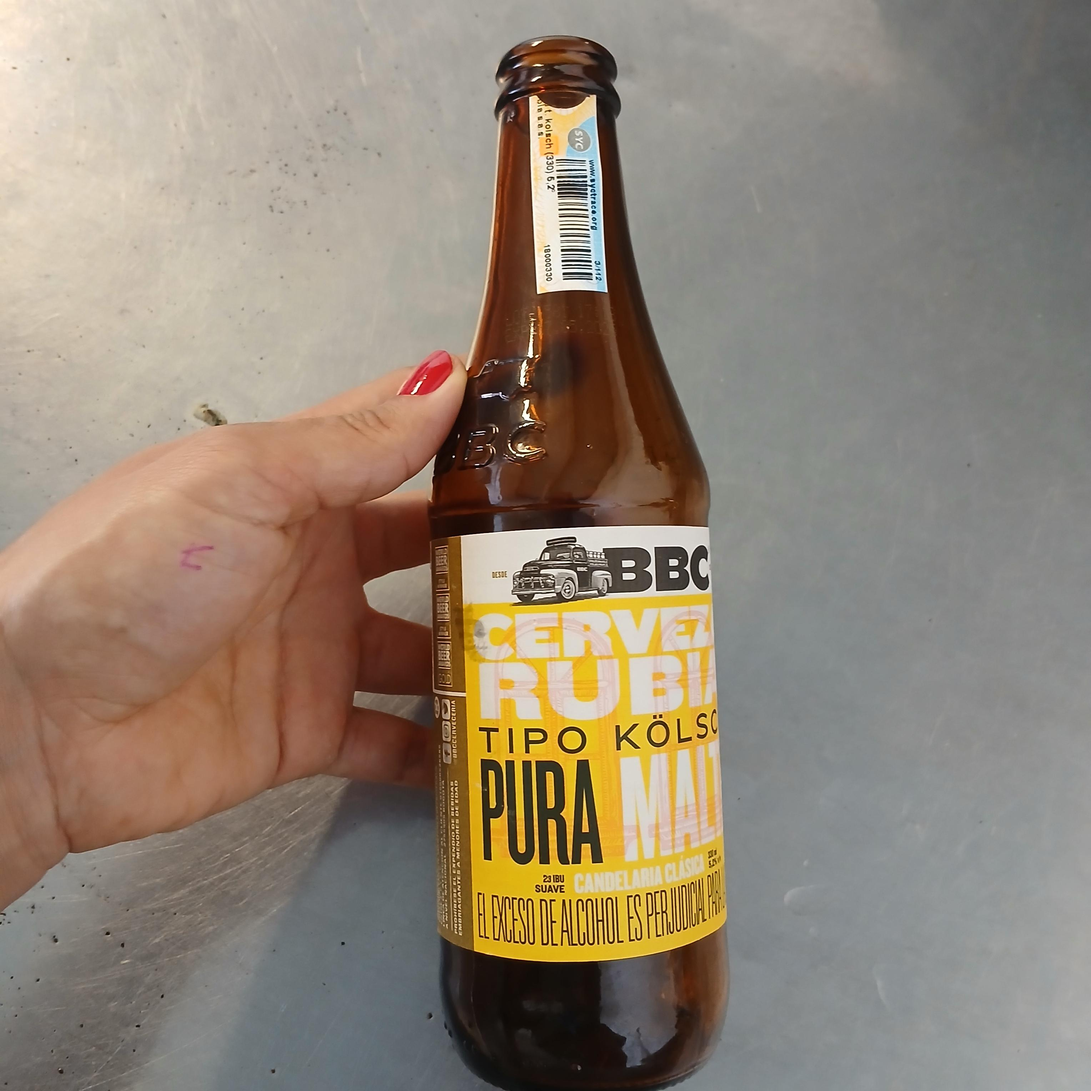Vidrio: (432, 32, 729, 1085)
